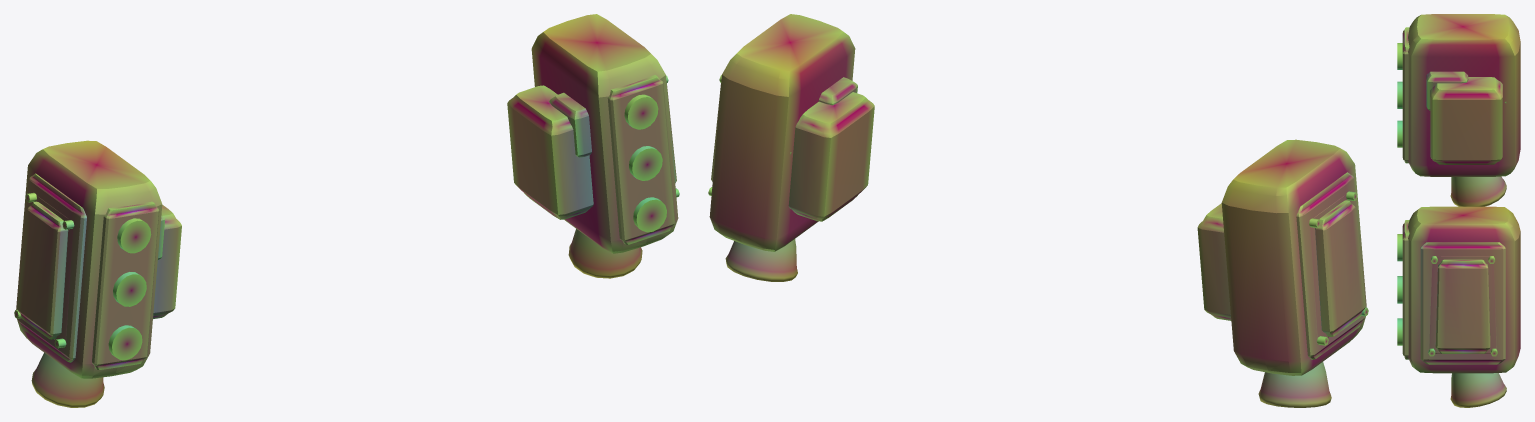
Rendered from llm_gen_leg_thrusters_109_1a9917.glb.
The picture shows the model from 3 angles, left to right: view 1: azimuth 30°, elevation 25°; view 2: azimuth 150°, elevation 25°; view 3: azimuth 270°, elevation 25°; orthographic projection. The views are drawn at different scales.
Visible parts, largest first — view 1: leg_missile_hull_0_barrel_metal_r, leg_missile_hull_0_barrel_metal_l, adapter_calf_clamp_r, leg_pod_armor_cover_6_adapter_dark_l, adapter_sub_missile_bezel_dark_1_adapter_dark_l, adapter_sub_missile_bezel_dark_1_adapter_dark_r, adapter_sub_side_frame_dark_5_adapter_dark_l, leg_ankle_bell_7_vernier_bell_vernier_l, leg_ankle_bell_7_vernier_bell_vernier_r, adapter_calf_clamp_l, adapter_leg_knee_mount_dark_8_adapter_dark_r, leg_cell_top_2_crimson_gloss_l (+5 smaller); view 2: leg_missile_hull_0_barrel_metal_r, leg_missile_hull_0_barrel_metal_l, adapter_calf_clamp_r, leg_pod_armor_cover_6_adapter_dark_l, adapter_sub_side_frame_dark_5_adapter_dark_l, adapter_calf_clamp_l, leg_ankle_bell_7_vernier_bell_vernier_l, leg_ankle_bell_7_vernier_bell_vernier_r, adapter_leg_knee_mount_dark_8_adapter_dark_r; view 3: leg_missile_hull_0_barrel_metal_l, leg_missile_hull_0_barrel_metal_r, leg_pod_armor_cover_6_adapter_dark_r, adapter_calf_clamp_l, adapter_sub_side_frame_dark_5_adapter_dark_r, leg_ankle_bell_7_vernier_bell_vernier_r, leg_ankle_bell_7_vernier_bell_vernier_l, adapter_sub_missile_bezel_dark_1_adapter_dark_r, adapter_sub_missile_bezel_dark_1_adapter_dark_l, adapter_leg_knee_mount_dark_8_adapter_dark_l, leg_cell_top_2_crimson_gloss_r, leg_cell_mid_3_crimson_gloss_r (+4 smaller).
Boxes of the visible parts, bbox=[...] form: leg_missile_hull_0_barrel_metal_r: bbox=[531, 14, 678, 253]; leg_missile_hull_0_barrel_metal_l: bbox=[16, 140, 162, 378]; adapter_calf_clamp_r: bbox=[507, 85, 593, 219]; leg_pod_armor_cover_6_adapter_dark_l: bbox=[14, 192, 74, 348]; adapter_sub_missile_bezel_dark_1_adapter_dark_l: bbox=[92, 201, 159, 369]; adapter_sub_missile_bezel_dark_1_adapter_dark_r: bbox=[607, 75, 675, 244]; adapter_sub_side_frame_dark_5_adapter_dark_l: bbox=[17, 173, 86, 362]; leg_ankle_bell_7_vernier_bell_vernier_l: bbox=[31, 352, 104, 407]; leg_ankle_bell_7_vernier_bell_vernier_r: bbox=[568, 229, 642, 278]; adapter_calf_clamp_l: bbox=[153, 205, 181, 318]; adapter_leg_knee_mount_dark_8_adapter_dark_r: bbox=[549, 92, 591, 157]; leg_cell_top_2_crimson_gloss_l: bbox=[117, 218, 151, 253]; leg_missile_hull_0_barrel_metal_r: bbox=[709, 14, 855, 251]; leg_missile_hull_0_barrel_metal_l: bbox=[1221, 139, 1366, 375]; adapter_calf_clamp_r: bbox=[788, 92, 874, 221]; leg_pod_armor_cover_6_adapter_dark_l: bbox=[1309, 191, 1368, 345]; adapter_sub_side_frame_dark_5_adapter_dark_l: bbox=[1296, 172, 1365, 359]; adapter_calf_clamp_l: bbox=[1197, 203, 1231, 320]; leg_ankle_bell_7_vernier_bell_vernier_l: bbox=[1258, 362, 1331, 407]; leg_ankle_bell_7_vernier_bell_vernier_r: bbox=[725, 239, 797, 281]; adapter_leg_knee_mount_dark_8_adapter_dark_r: bbox=[818, 77, 857, 105]; leg_missile_hull_0_barrel_metal_l: bbox=[1408, 14, 1520, 176]; leg_missile_hull_0_barrel_metal_r: bbox=[1408, 206, 1520, 373]; leg_pod_armor_cover_6_adapter_dark_r: bbox=[1428, 256, 1497, 356]; adapter_calf_clamp_l: bbox=[1430, 77, 1502, 164]; adapter_sub_side_frame_dark_5_adapter_dark_r: bbox=[1420, 242, 1505, 364]; leg_ankle_bell_7_vernier_bell_vernier_r: bbox=[1450, 373, 1506, 407]; leg_ankle_bell_7_vernier_bell_vernier_l: bbox=[1450, 176, 1506, 206]; adapter_sub_missile_bezel_dark_1_adapter_dark_r: bbox=[1402, 220, 1409, 359]; adapter_sub_missile_bezel_dark_1_adapter_dark_l: bbox=[1402, 27, 1409, 163]; adapter_leg_knee_mount_dark_8_adapter_dark_l: bbox=[1426, 71, 1468, 110]; leg_cell_top_2_crimson_gloss_r: bbox=[1397, 234, 1402, 261]; leg_cell_mid_3_crimson_gloss_r: bbox=[1397, 276, 1402, 303].
Size of the model in its own units: 84.69 by 30.45 by 18.63.
